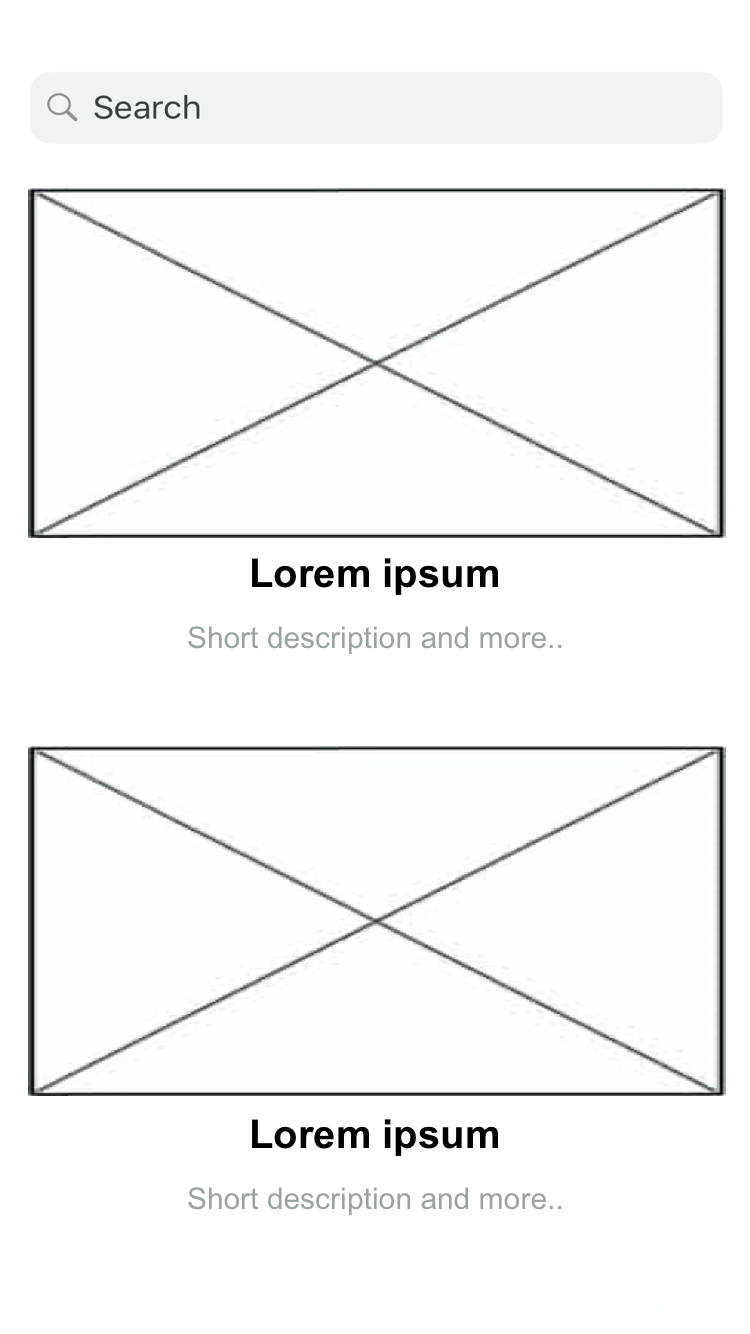EditText: (30, 72, 724, 146)
Icon: (47, 93, 79, 123)
Image: (28, 188, 727, 540), (28, 746, 727, 1097)
Text: (188, 626, 563, 655), (188, 1186, 563, 1215), (252, 1119, 500, 1157), (252, 558, 499, 596), (94, 95, 202, 121)
